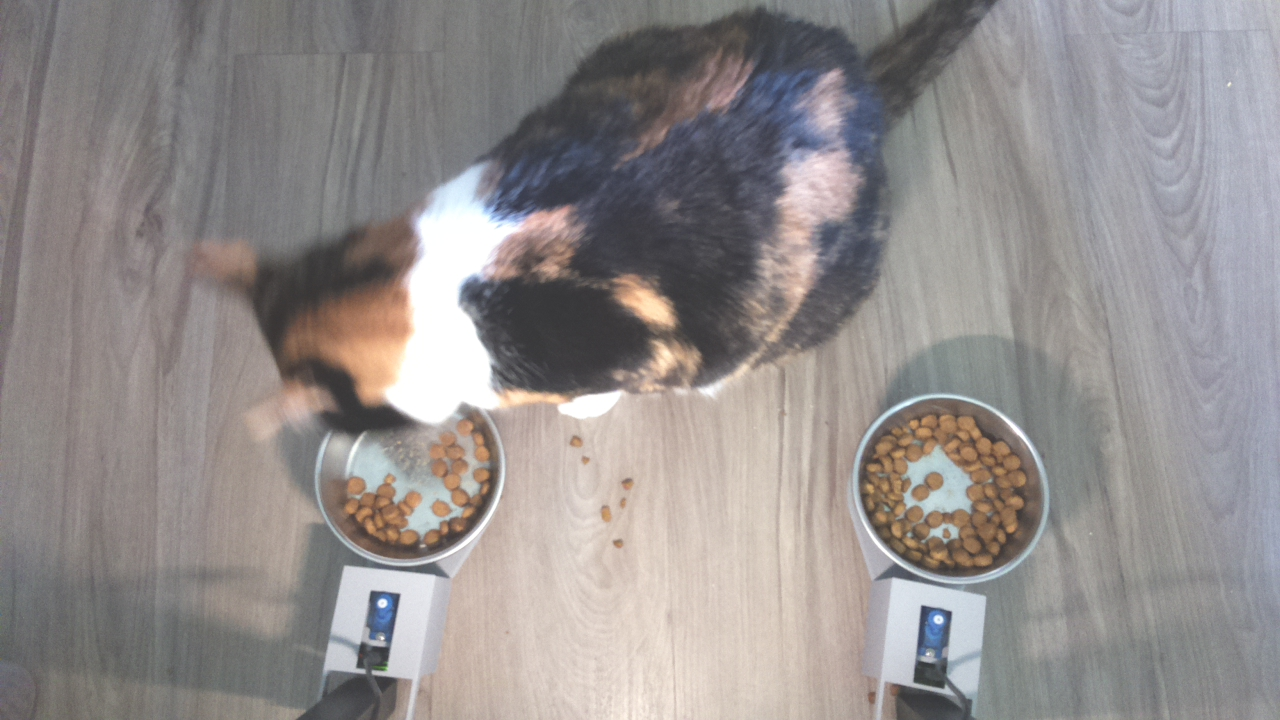bella: (180, 213, 493, 429)
open_bowl: (845, 391, 1050, 589), (318, 418, 507, 571)
